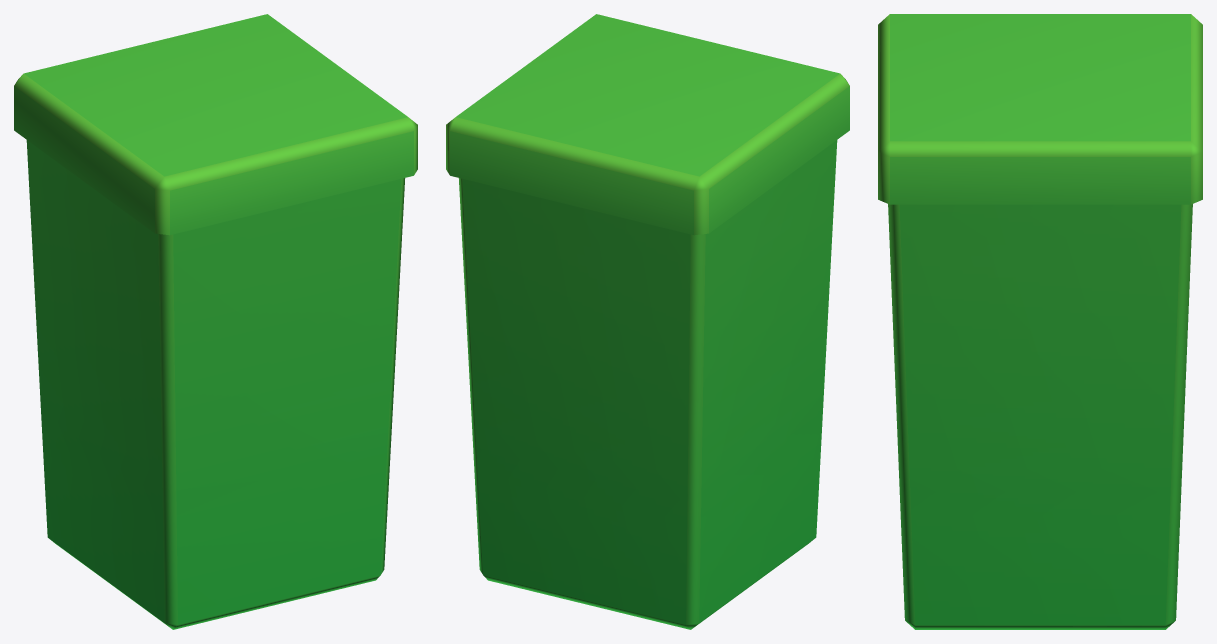
File: giftbox_029.fbx
3 renders of one model, left to right at view 1: azimuth 30°, elevation 25°; view 2: azimuth 150°, elevation 25°; view 3: azimuth 270°, elevation 25°, orthographic. The views are drawn at different scales.
Parts seen in each view (by area): view 1: giftbox_029; view 2: giftbox_029; view 3: giftbox_029.
Part boxes in pixels (bbox=[...]): giftbox_029: bbox=[14, 14, 417, 629]; giftbox_029: bbox=[446, 14, 849, 629]; giftbox_029: bbox=[878, 14, 1202, 629].
Bounding box in the file's own units: 234 × 234 × 397.
